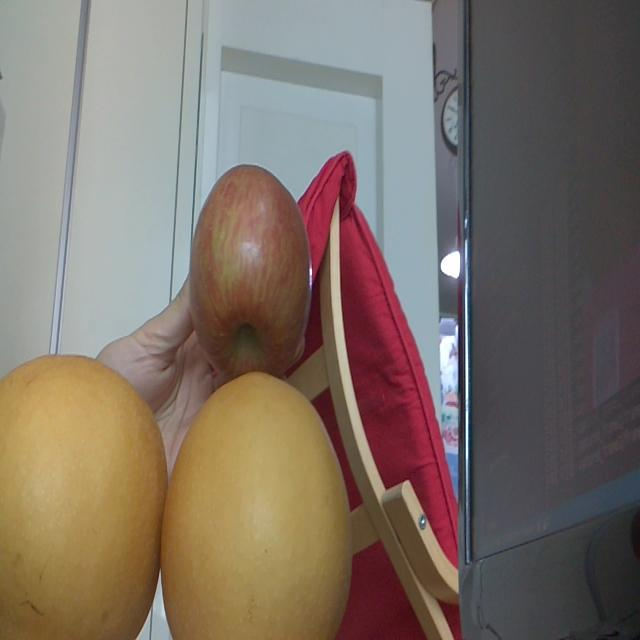apple: (193, 152, 312, 376)
pear: (166, 372, 352, 640), (0, 354, 166, 640)
